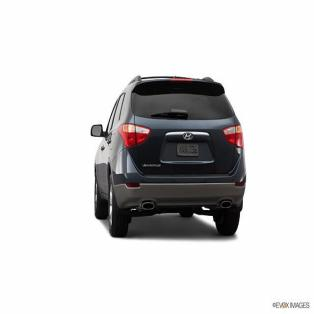Auto: (89, 74, 248, 240)
